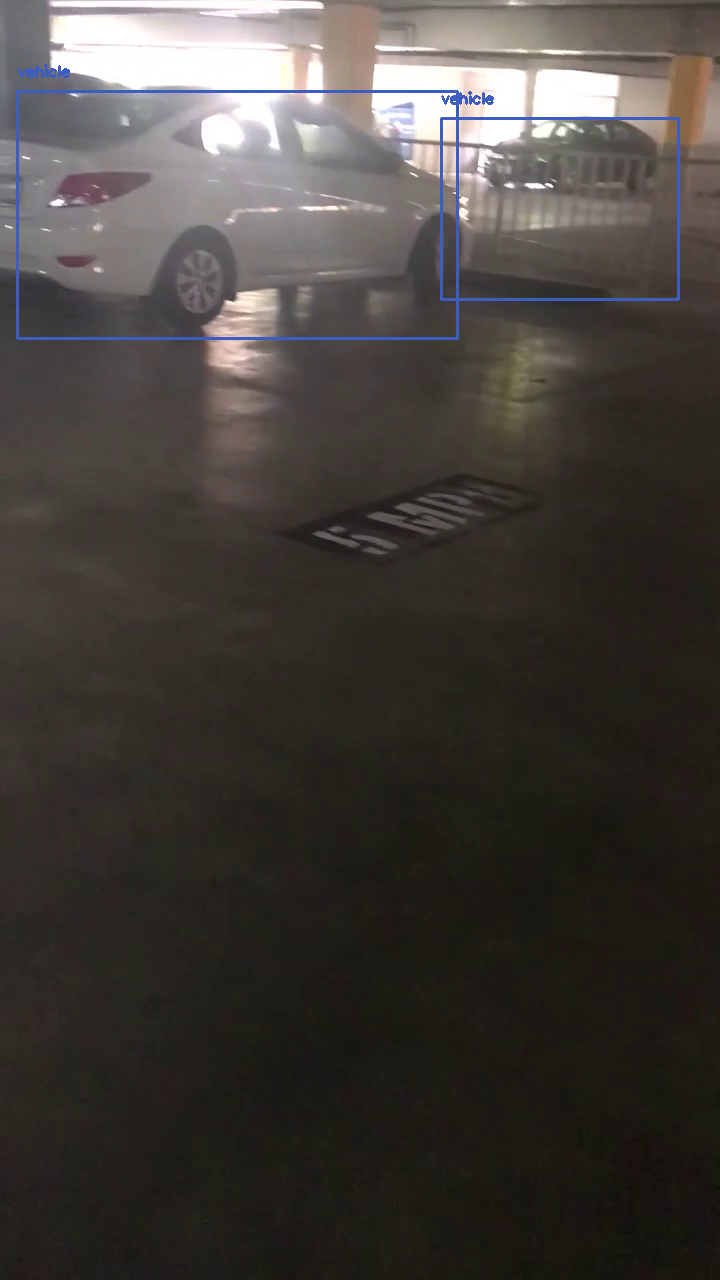vehicle: (17, 91, 457, 338), (441, 118, 678, 299)
